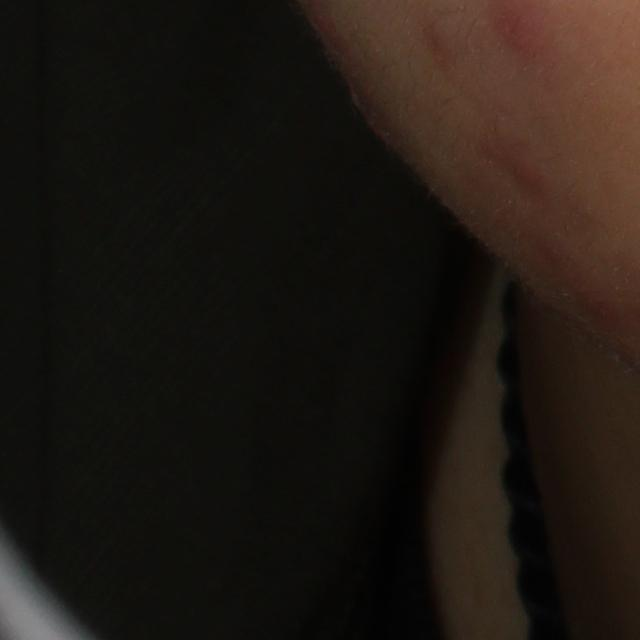papule: (494, 2, 566, 58), (512, 154, 548, 186)
